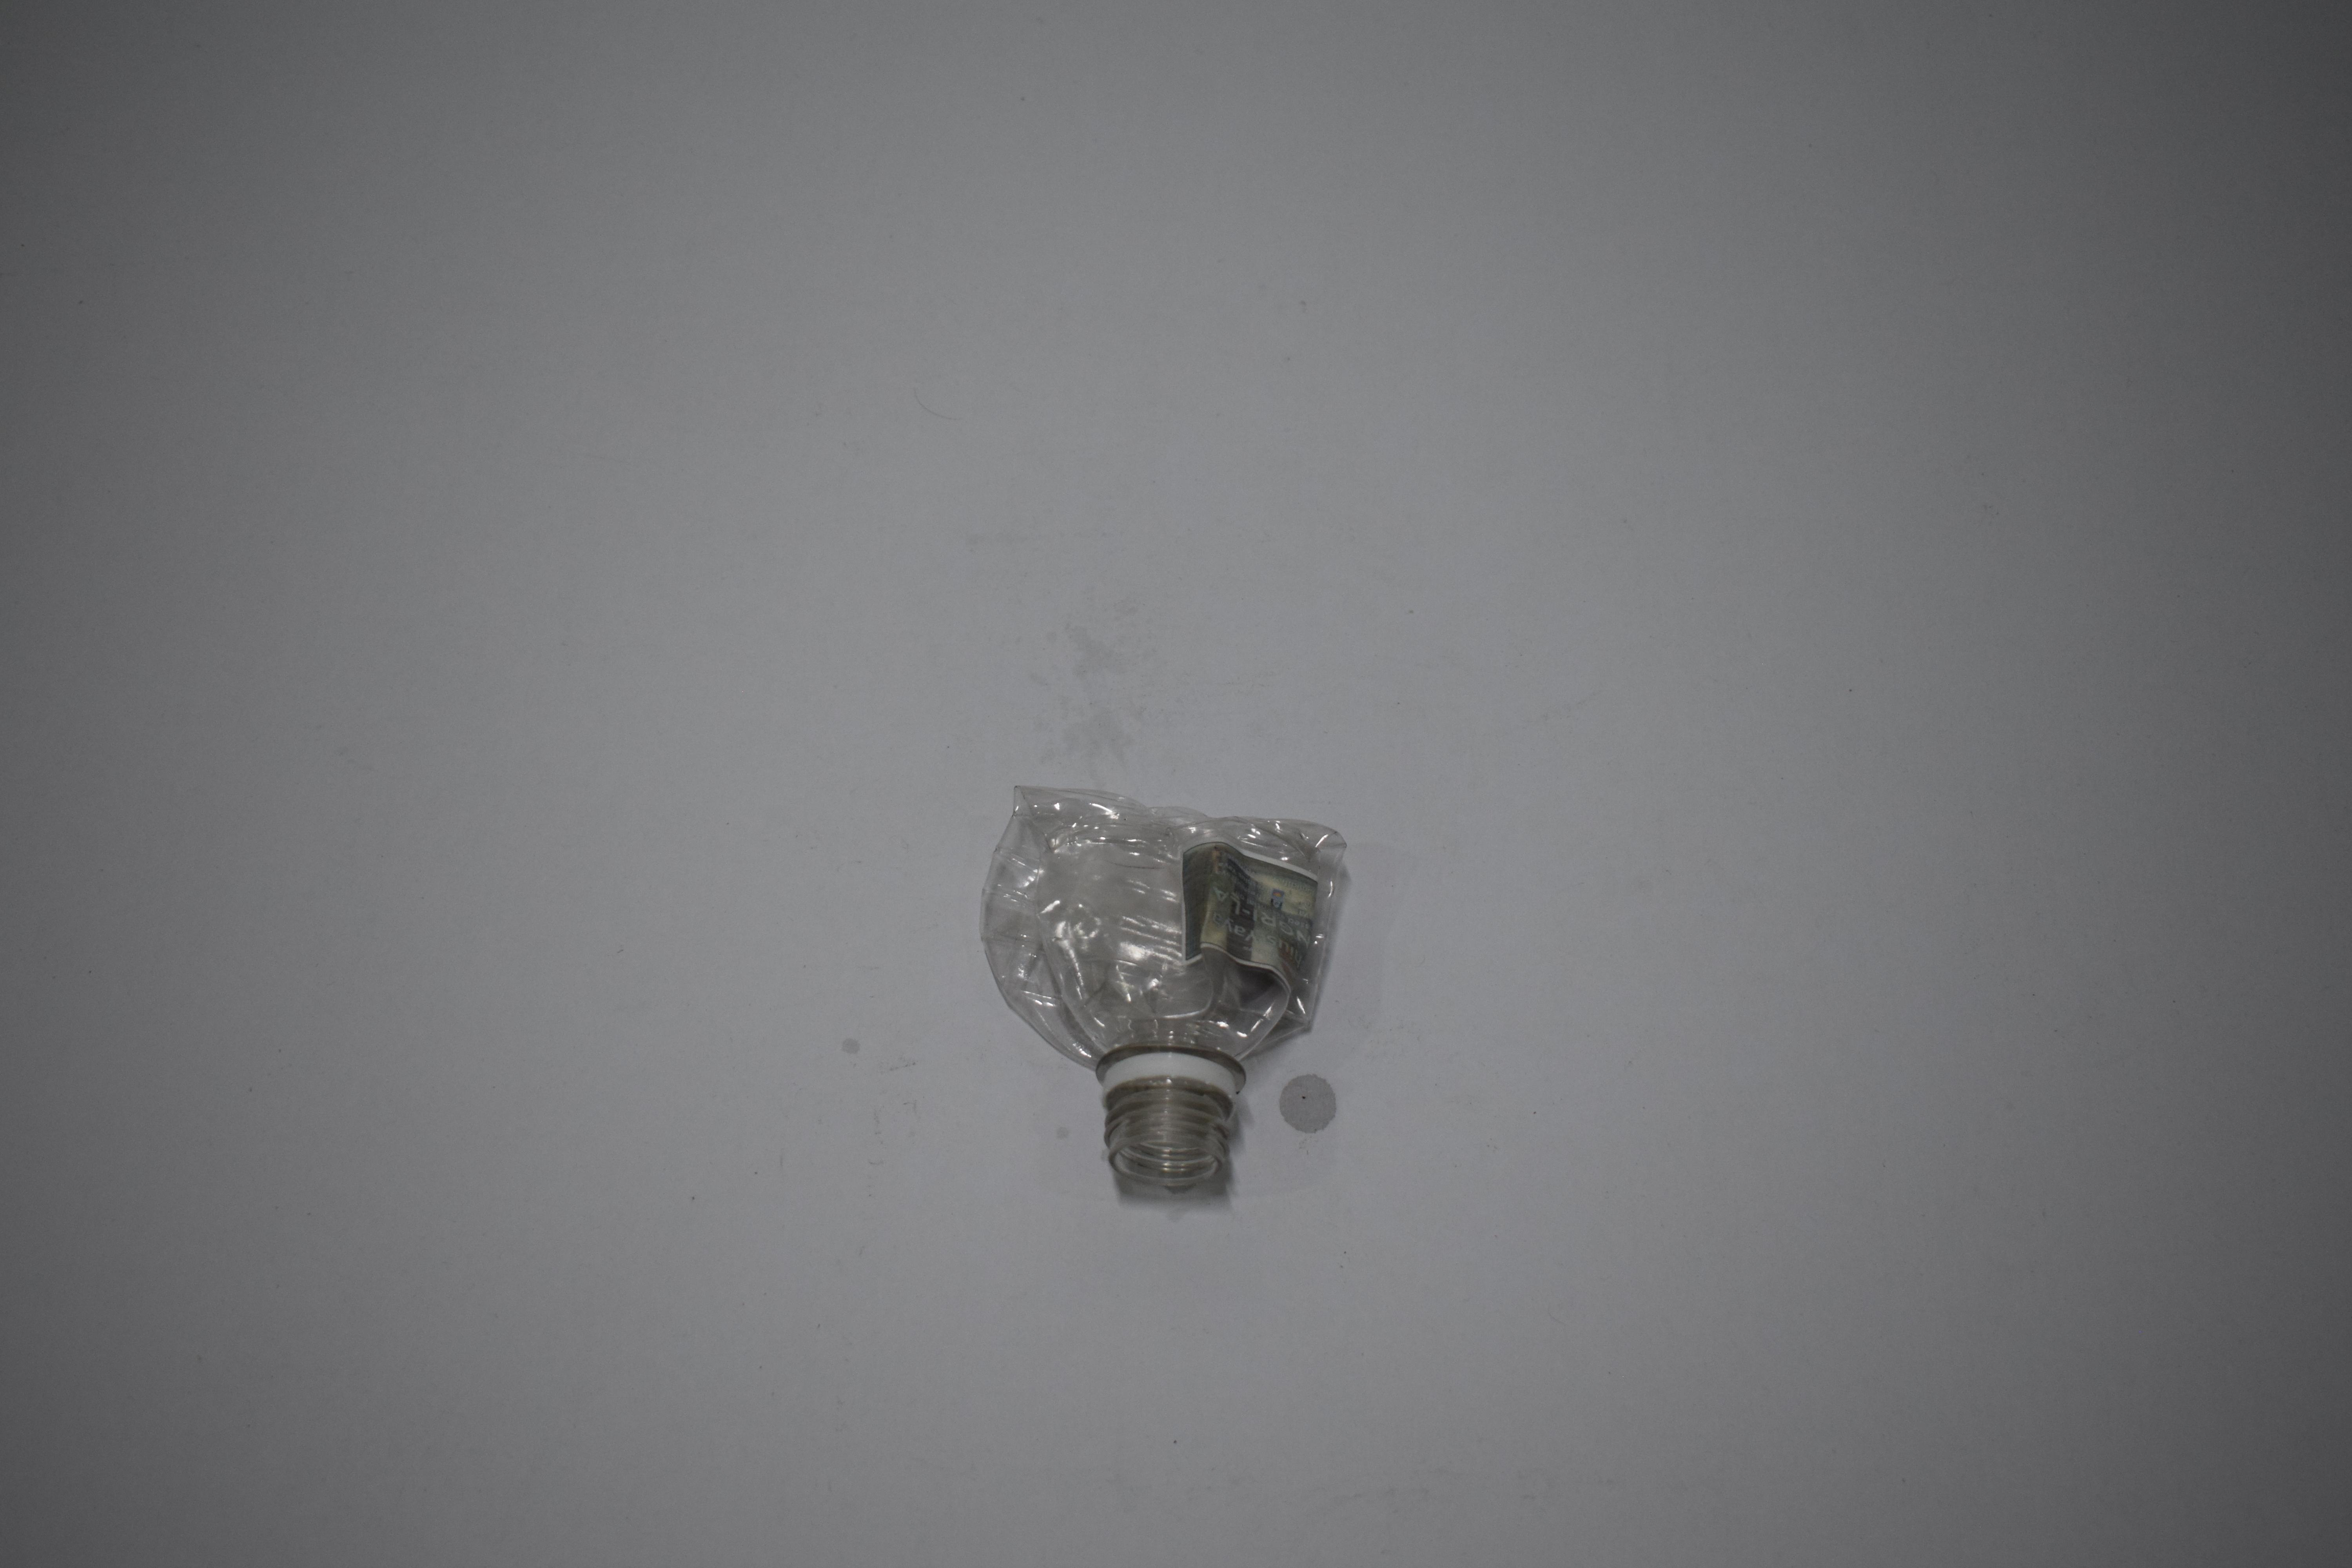bottle: (961, 777, 1344, 1199)
